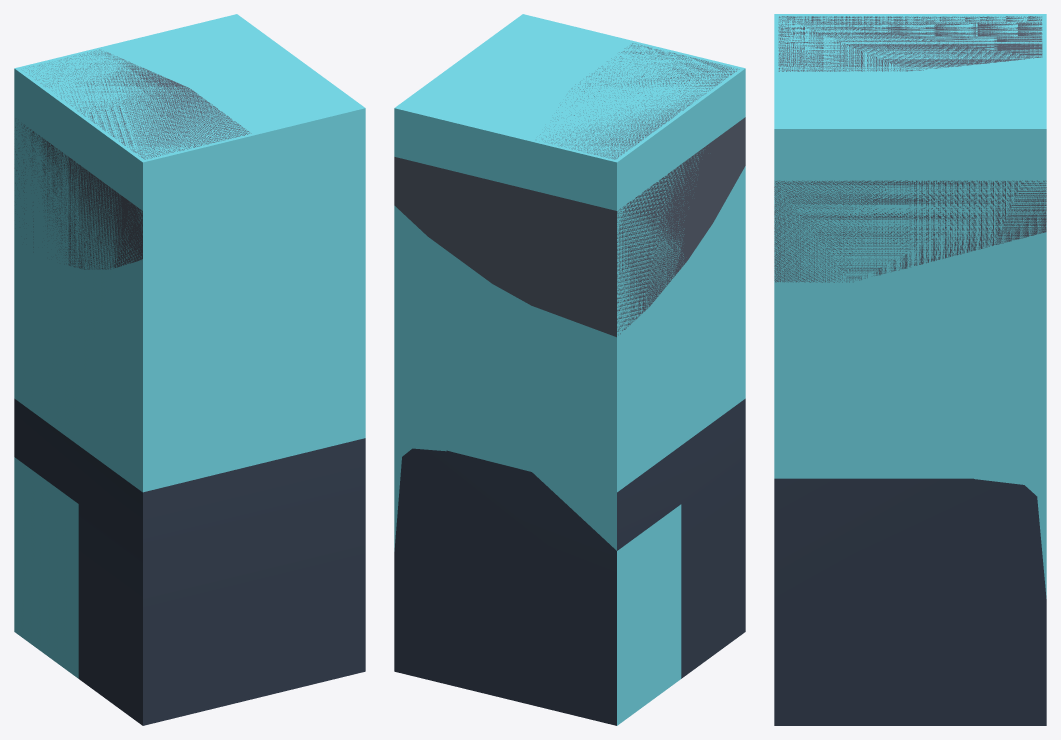
Rendered from PBOX1_MudFlA_02.FBX.
3 views of the same model, side by side, from view 1: azimuth 30°, elevation 25°; view 2: azimuth 150°, elevation 25°; view 3: azimuth 270°, elevation 25° (orthographic). The views are drawn at different scales.
Parts seen in each view (by area): view 1: PBOX1_MudFlA_02, PBOX1_SUB_TAB_MudFlA_002, PBOX1_SUB_MudFlA_007; view 2: PBOX1_MudFlA_02, PBOX1_SUB_TAB_MudFlA_002, PBOX1_SUB_MudFlA_007; view 3: PBOX1_MudFlA_02, PBOX1_SUB_TAB_MudFlA_002, PBOX1_SUB_MudFlA_007.
Part boxes in pixels (left/top/right/bottom): PBOX1_MudFlA_02: left=14, top=14, right=365, bottom=678; PBOX1_SUB_TAB_MudFlA_002: left=14, top=398, right=365, bottom=725; PBOX1_SUB_MudFlA_007: left=14, top=49, right=251, bottom=269; PBOX1_MudFlA_02: left=394, top=14, right=745, bottom=725; PBOX1_SUB_TAB_MudFlA_002: left=394, top=398, right=745, bottom=725; PBOX1_SUB_MudFlA_007: left=394, top=43, right=745, bottom=337; PBOX1_MudFlA_02: left=774, top=14, right=1046, bottom=598; PBOX1_SUB_TAB_MudFlA_002: left=774, top=478, right=1046, bottom=725; PBOX1_SUB_MudFlA_007: left=774, top=16, right=1046, bottom=282.
Bounding box in the file's own units: 6 × 14.5 × 6.
